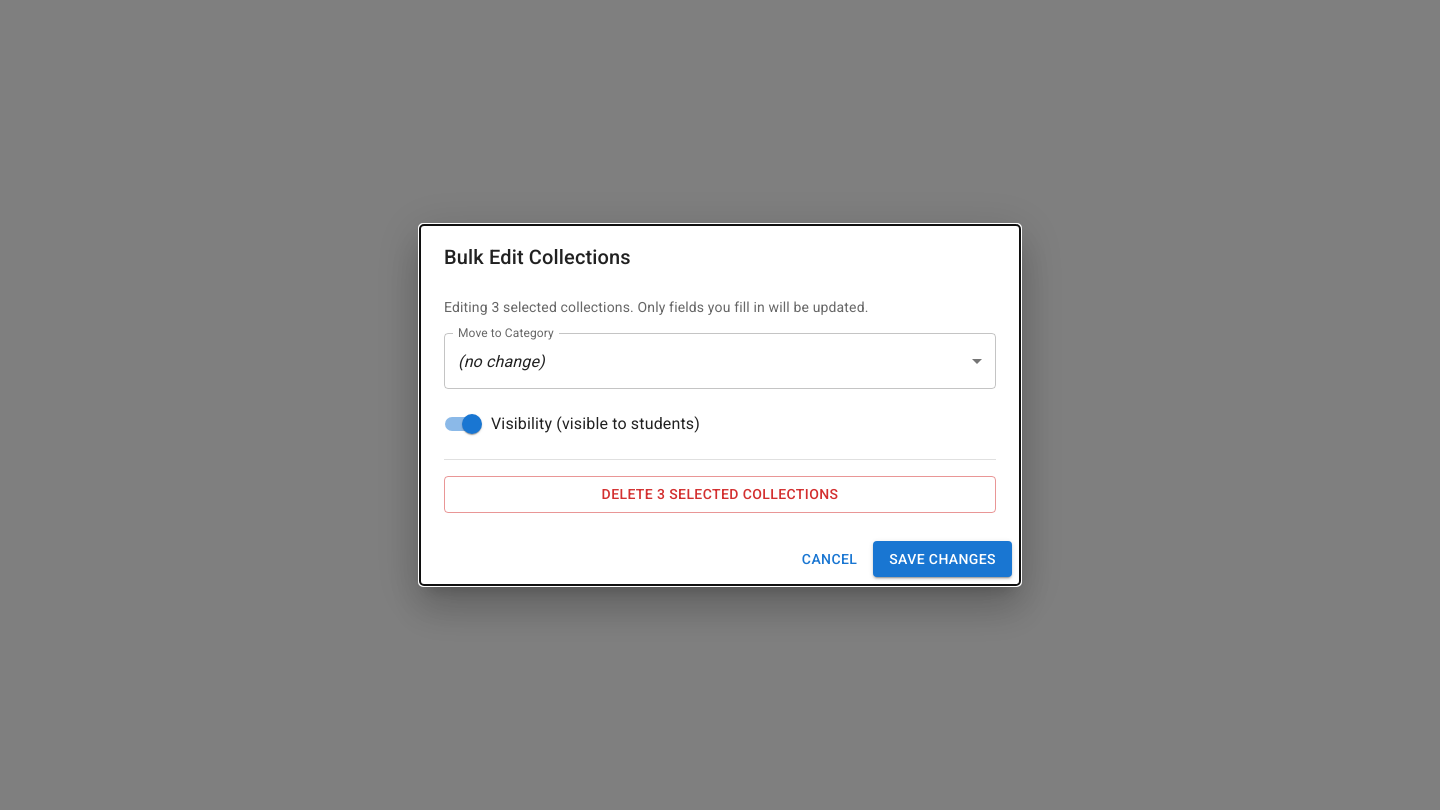
Test: BulkEditCollectionsDialog (#1578) › disables the visibility switch when the chosen category is hidden
Step 1. Click the dropdown → (501, 361), box [458, 352, 545, 370]
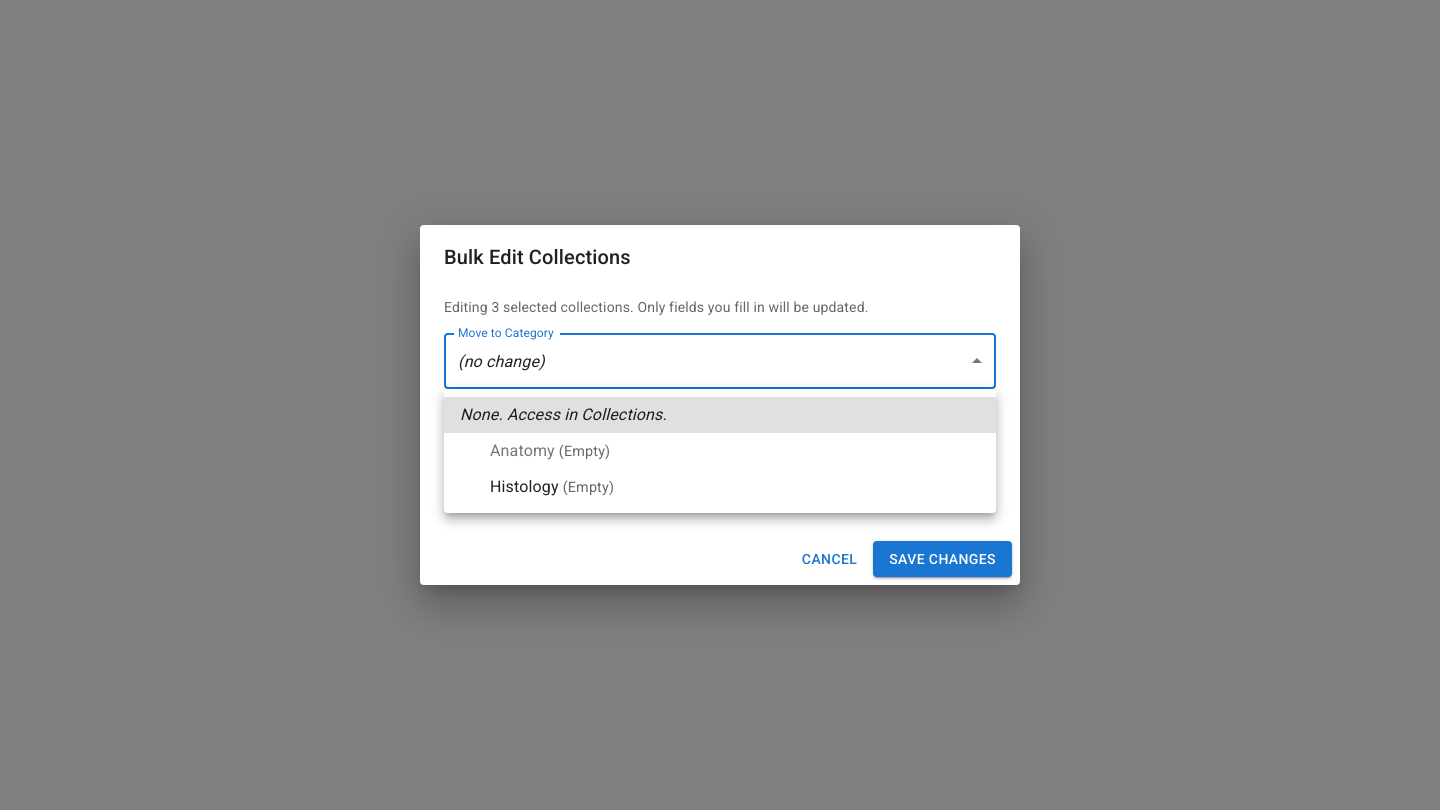
Step 2. Click the option "Anatomy(Empty)" → (550, 450), box [490, 441, 610, 460]
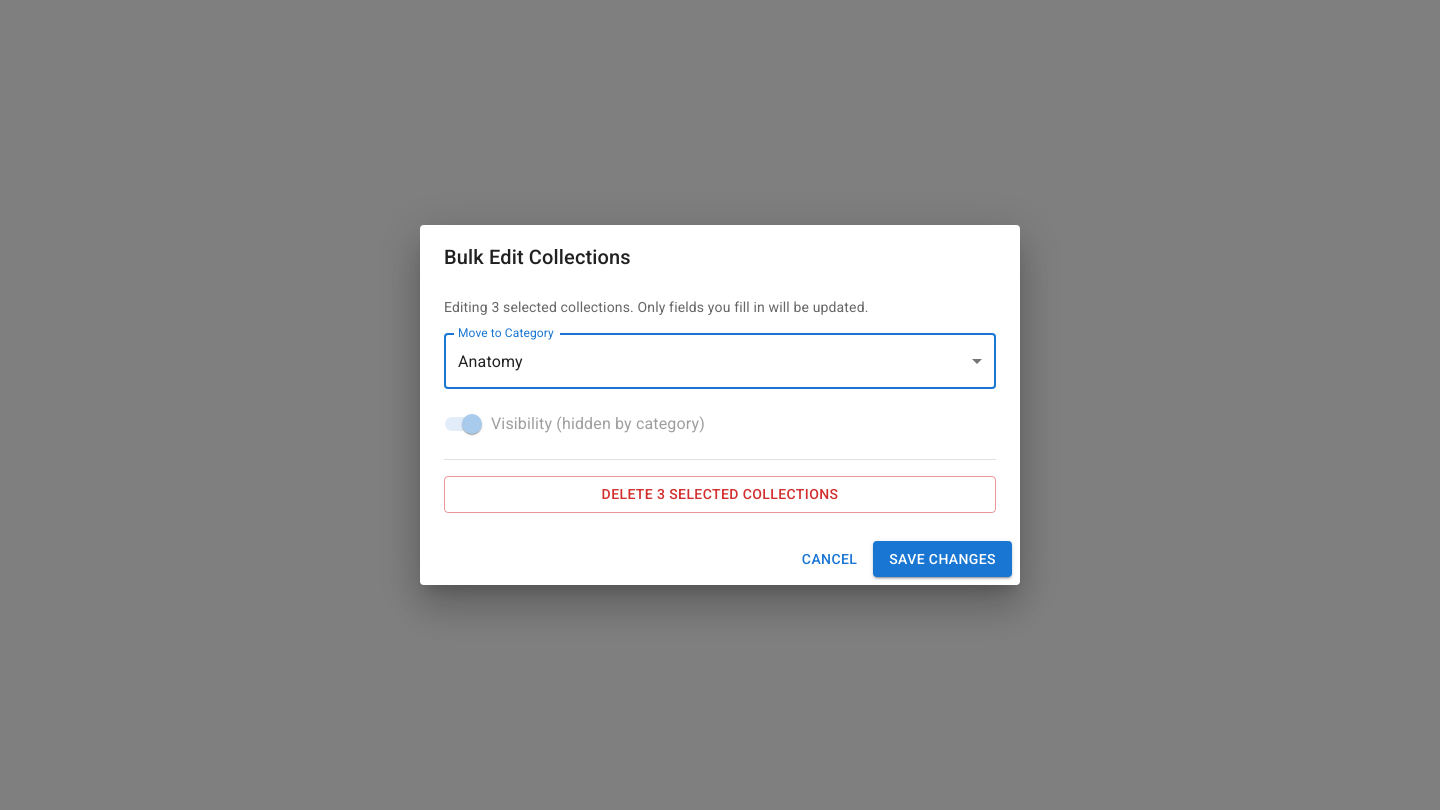
Expected: the switch labelled "Visibility (hidden by category)" is disabled, [445, 414, 705, 434]
